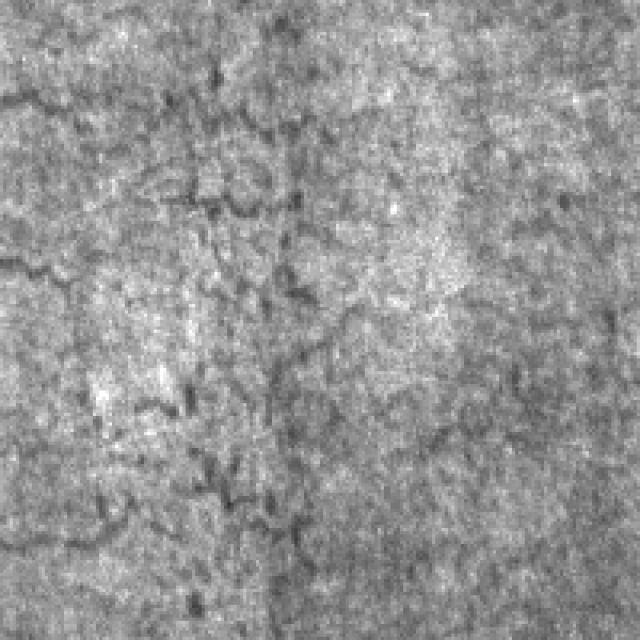crazing: (9, 51, 348, 298), (3, 330, 339, 579)
